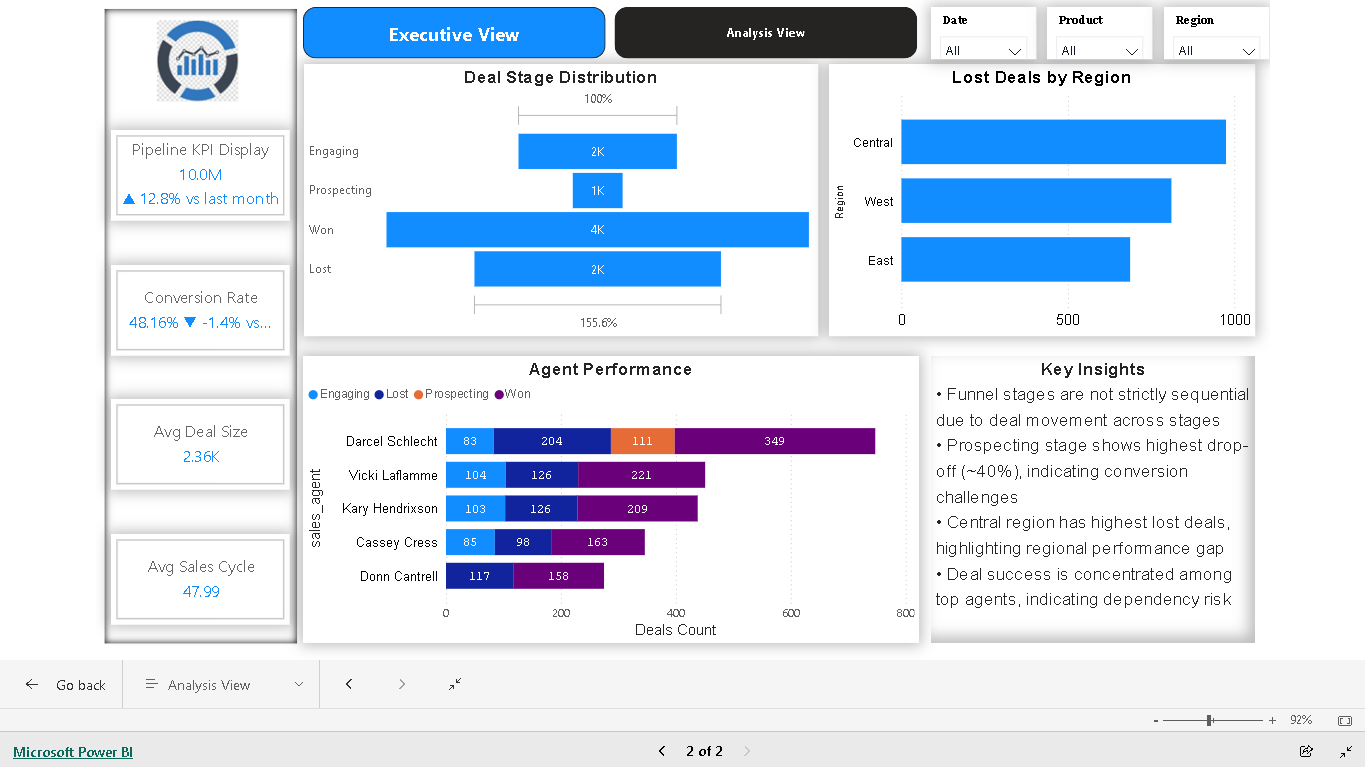

Layout of this report page (visuals, bound fields, positions):
{"tool":"powerbi","page":{"name":"Analysis View","canvas":[1280,720],"ordinal":1},"visuals":[{"type":"cardVisual","title":"Total  Revenue","fields":{"Data":["_Measures.Pipeline Value"]},"box":[16,141.8,195,99],"z":0},{"type":"cardVisual","title":"Total  Revenue","fields":{"Data":["_Measures.Conversion Rate"]},"box":[16,288.8,195,99],"z":1000},{"type":"cardVisual","title":"Total  Revenue","fields":{"Data":["_Measures.Avg Deal Size"]},"box":[16,435.8,195,99],"z":2000},{"type":"cardVisual","title":"Total  Revenue","fields":{"Data":["_Measures.Avg Sales Cycle"]},"box":[16,582.8,195,99],"z":3000},{"type":"funnel","title":"Deal Stage Distribution","fields":{"Category":["Deal Stage Table.deal_stage"],"Y":["_Measures.Deals Count"]},"box":[226.9,69.9,560.8,296.8],"z":4000},{"type":"barChart","title":"Lost Deals by Region","fields":{"Y":["_Measures.Lost Deals"],"Category":["dim_sales_teams.region"]},"box":[799.1,69.9,465.2,296.8],"z":5000},{"type":"barChart","title":"Agent Performance","fields":{"Category":["fact_sales.sales_agent"],"Y":["_Measures.Deals Count"],"Series":["fact_sales.deal_stage"]},"box":[226.3,387.9,671.5,313],"z":6000},{"type":"textbox","title":"Key Insights","box":[911,387.9,354.1,313],"z":7000},{"type":"slicer","fields":{"Values":["DateTable.Date Hierarchy.Month"]},"box":[911,7.3,114.6,57.3],"z":8000},{"type":"slicer","fields":{"Values":["fact_sales.product"]},"box":[1037.8,7.3,115,57],"z":9000},{"type":"slicer","fields":{"Values":["dim_sales_teams.region"]},"box":[1165,7.3,115,57],"z":10000},{"type":"pageNavigator","box":[226.3,7.3,671.5,56],"z":11000}]}

Visuals, with their boxes on the page's 1280x720 design canvas (x1, y1, x2, y2). These are canvas units, not pixel positions in the 1365x767 screenshot, which may show the page scaled, cropped or inside an application window:
"Total  Revenue" cardVisual: pyautogui.locateOnScreen(16, 142, 211, 241)
"Total  Revenue" cardVisual: pyautogui.locateOnScreen(16, 289, 211, 388)
"Total  Revenue" cardVisual: pyautogui.locateOnScreen(16, 436, 211, 535)
"Total  Revenue" cardVisual: pyautogui.locateOnScreen(16, 583, 211, 682)
"Deal Stage Distribution" funnel: pyautogui.locateOnScreen(227, 70, 788, 367)
"Lost Deals by Region" barChart: pyautogui.locateOnScreen(799, 70, 1264, 367)
"Agent Performance" barChart: pyautogui.locateOnScreen(226, 388, 898, 701)
"Key Insights" textbox: pyautogui.locateOnScreen(911, 388, 1265, 701)
slicer - DateTable.Date Hierarchy.Month: pyautogui.locateOnScreen(911, 7, 1026, 65)
slicer - fact_sales.product: pyautogui.locateOnScreen(1038, 7, 1153, 64)
slicer - dim_sales_teams.region: pyautogui.locateOnScreen(1165, 7, 1280, 64)
pageNavigator: pyautogui.locateOnScreen(226, 7, 898, 63)
